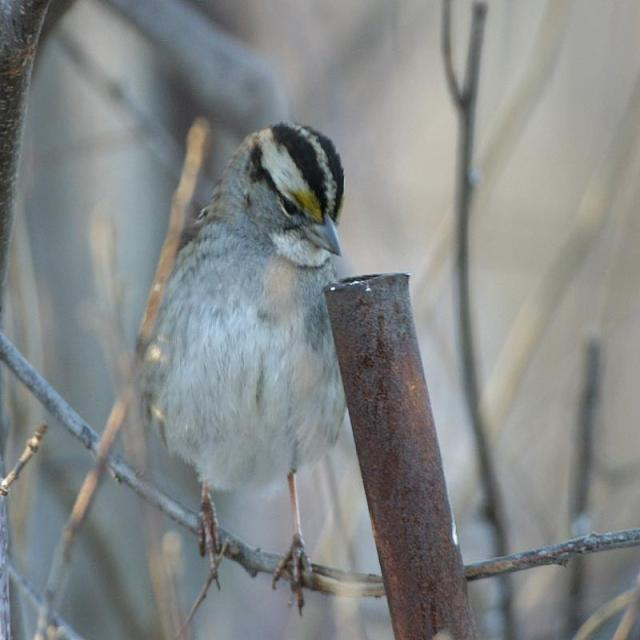bird: (151, 119, 358, 618)
